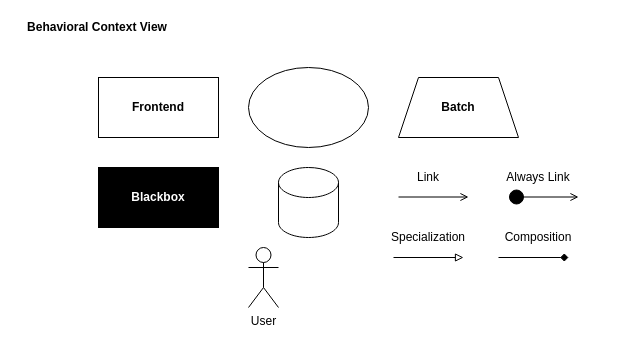
Image size: 644x354. Some labels were removed from this diagram. Each missing label, with the centre of its shape:
"Database" belongs at point (308, 202).
"Service" belongs at point (308, 107).
